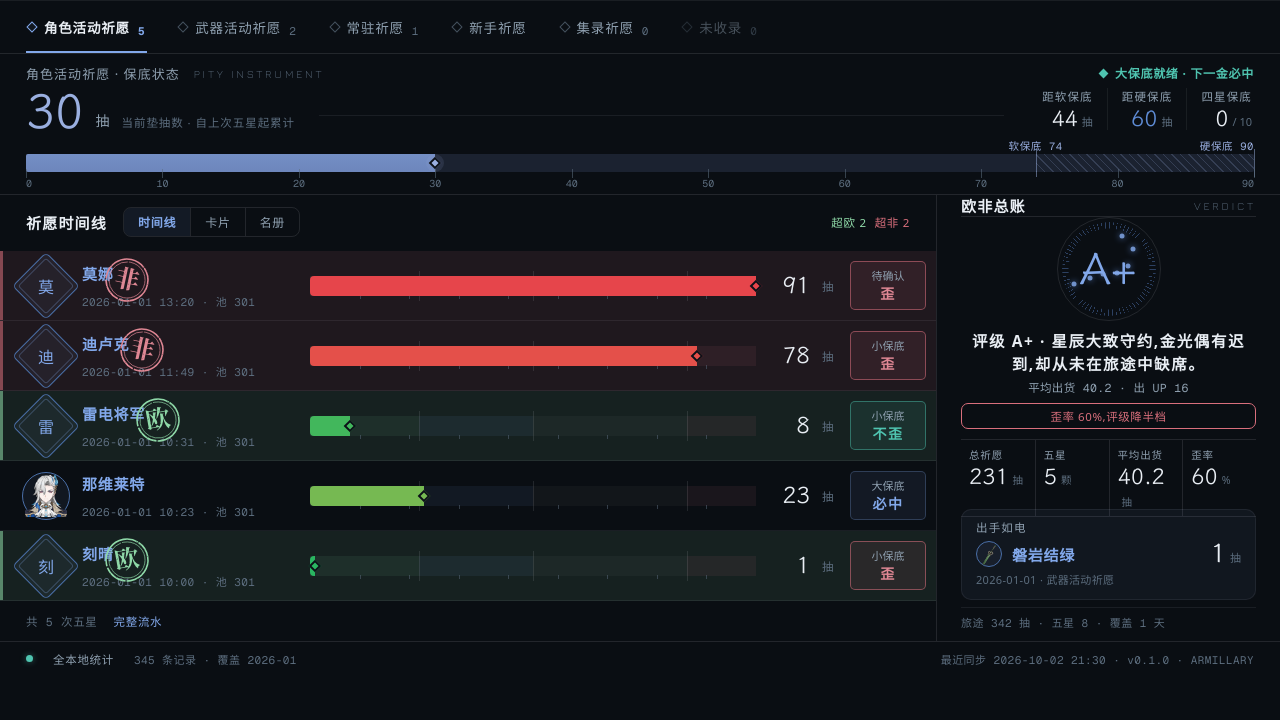
Test case: BoardView · 名册切换与流水抽屉 › 流水抽屉:完整流水入口打开,仅五星/301-400 筛选与分页可用
Click the button with class "ledger-link" at (138, 621), box [114, 613, 162, 629]
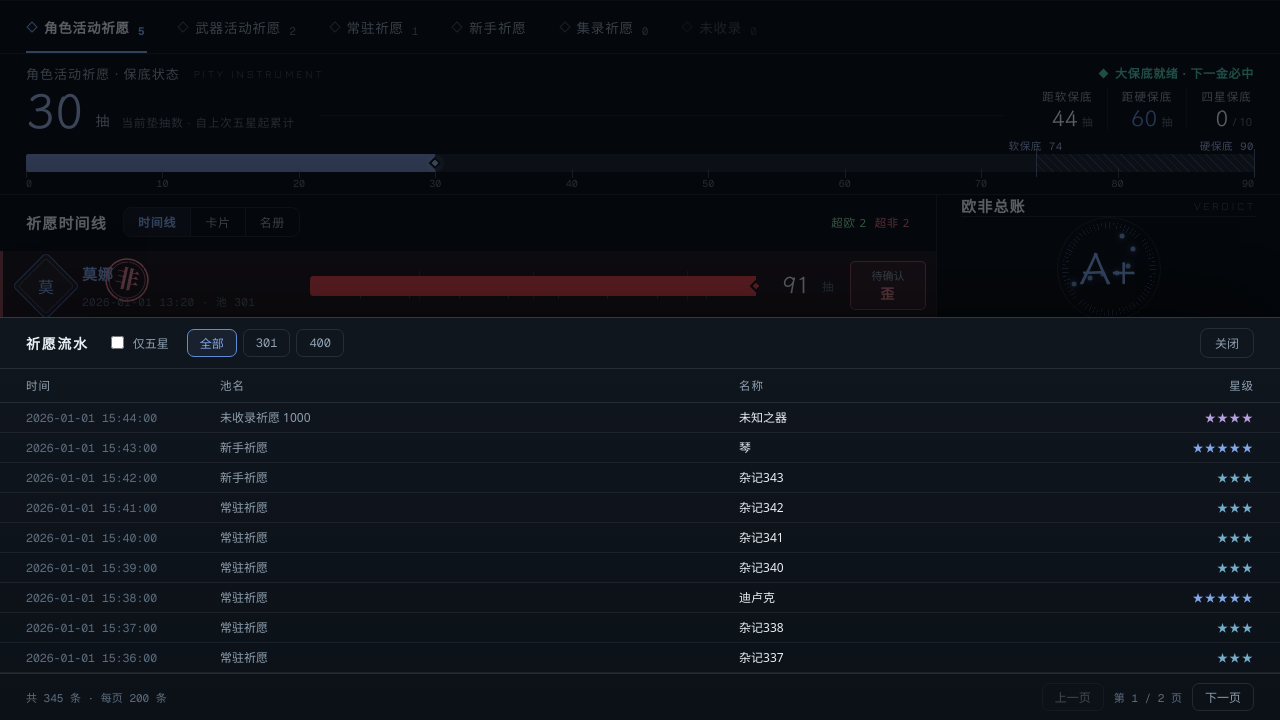
 仅五星:9 条
Click the checkbox labelled "仅五星" at (117, 343), box [111, 336, 124, 349]
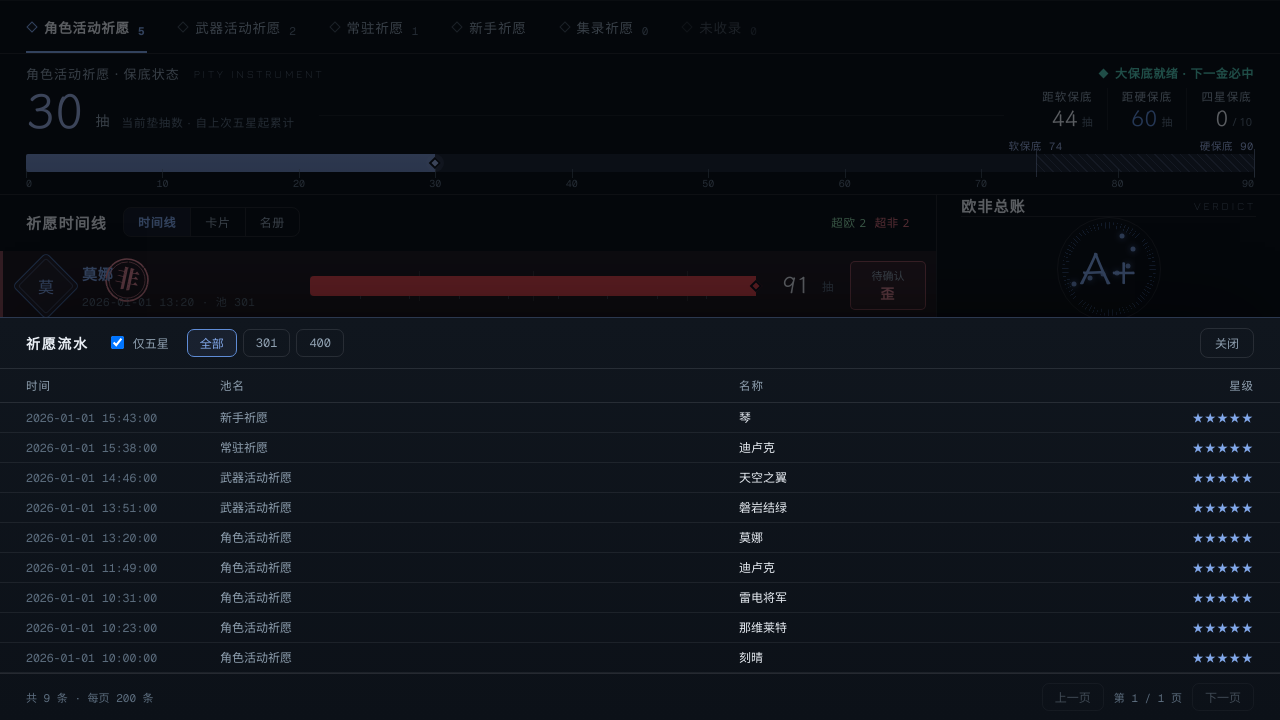
Click the checkbox labelled "仅五星" at (117, 343), box [111, 336, 124, 349]
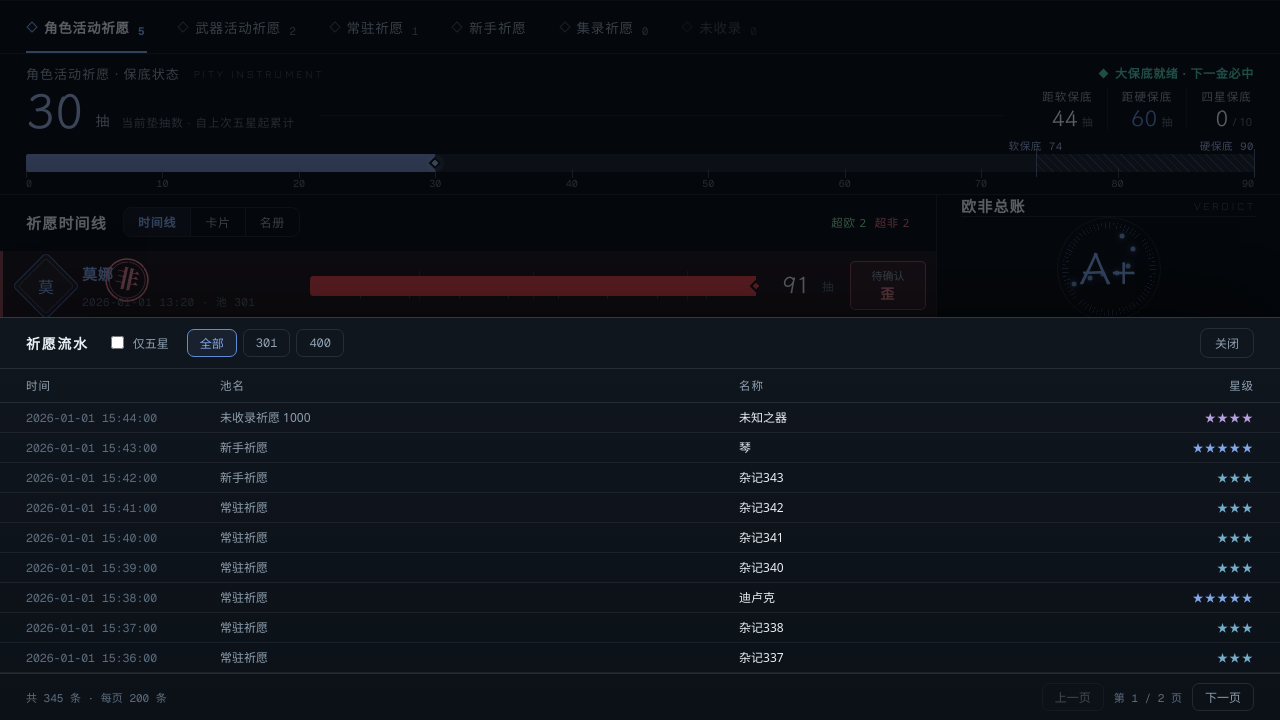
Click the button with class "code-btn" showing "400" at (320, 343), box [296, 329, 344, 357]
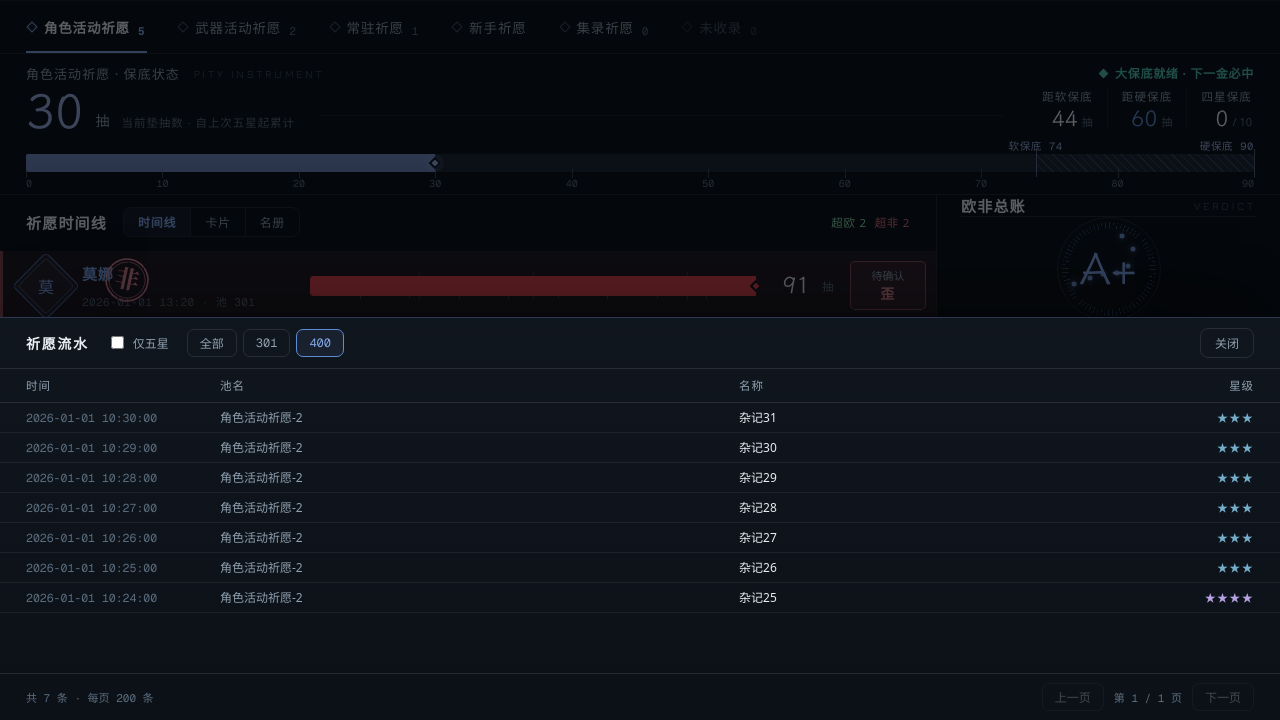
Expected: the text with class "ledger-count" shows "共 7 条", [26, 691, 154, 705]
Click the button with class "code-btn" showing "全部" at (212, 343), box [187, 329, 237, 357]
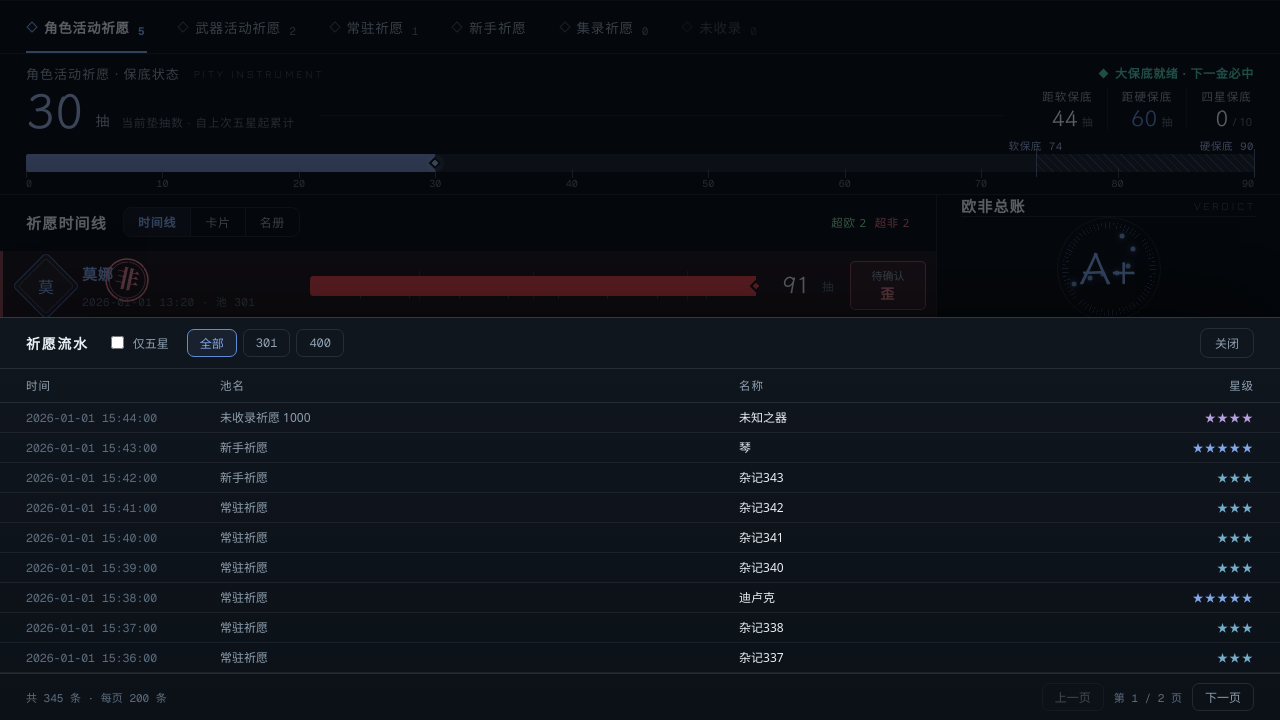
Expected: the text with class "ledger-count" shows "共 345 条", [26, 691, 167, 705]
Click the button "下一页" at (1223, 697), box [1192, 683, 1254, 711]
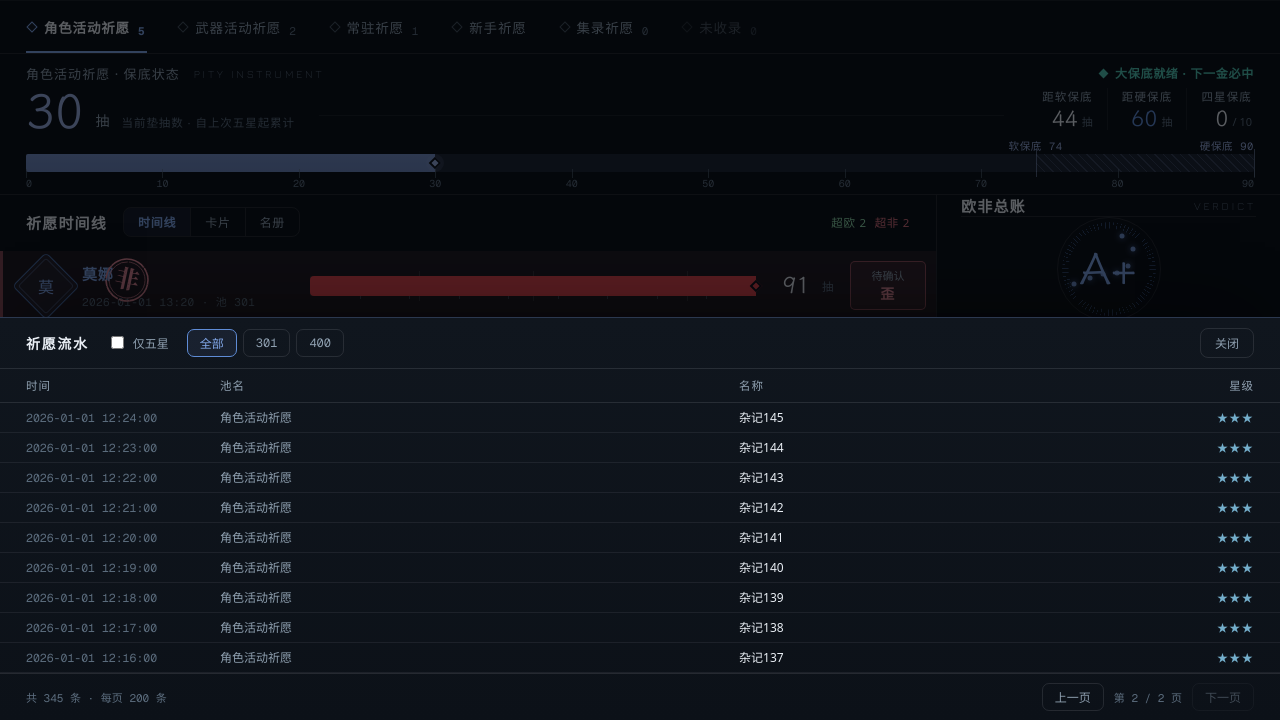
Expected: the text "第 2 / 2 页" is shown, [1114, 689, 1182, 705]
